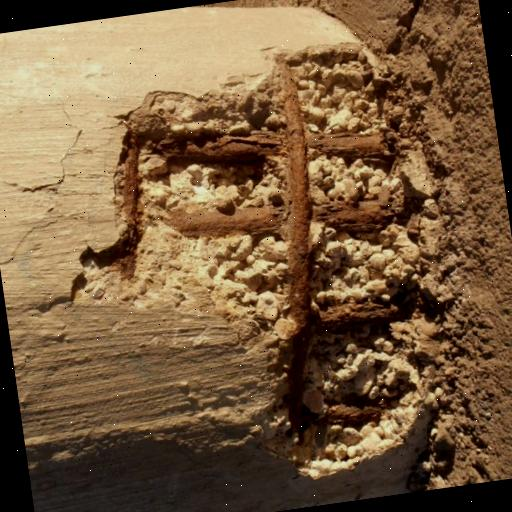spalling: (90, 44, 466, 503)
